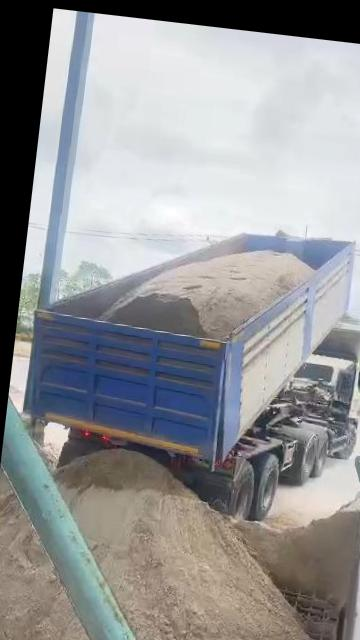sand: (56, 450, 314, 640), (101, 251, 312, 339), (0, 496, 108, 640), (236, 504, 360, 606)
